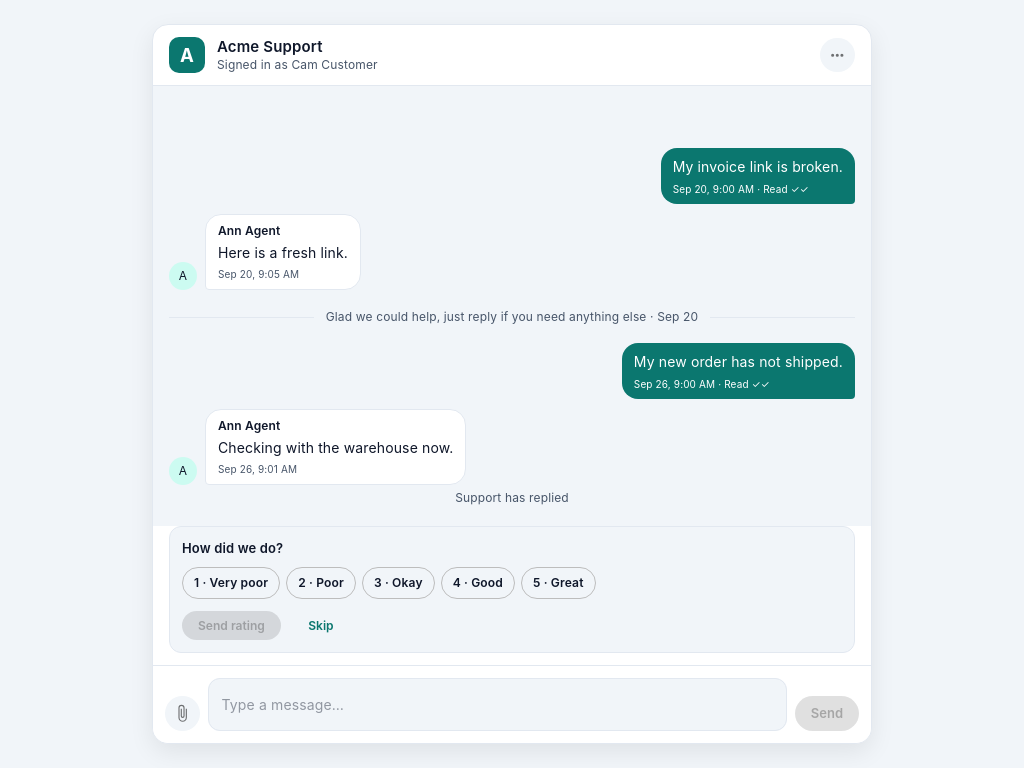
it: RatingPrompt in the customer chat › keeps the prompt and says what went wrong when saving fails
Click the radio button labelled "5 · Great".
click(558, 583)  # box [521,567,596,599]
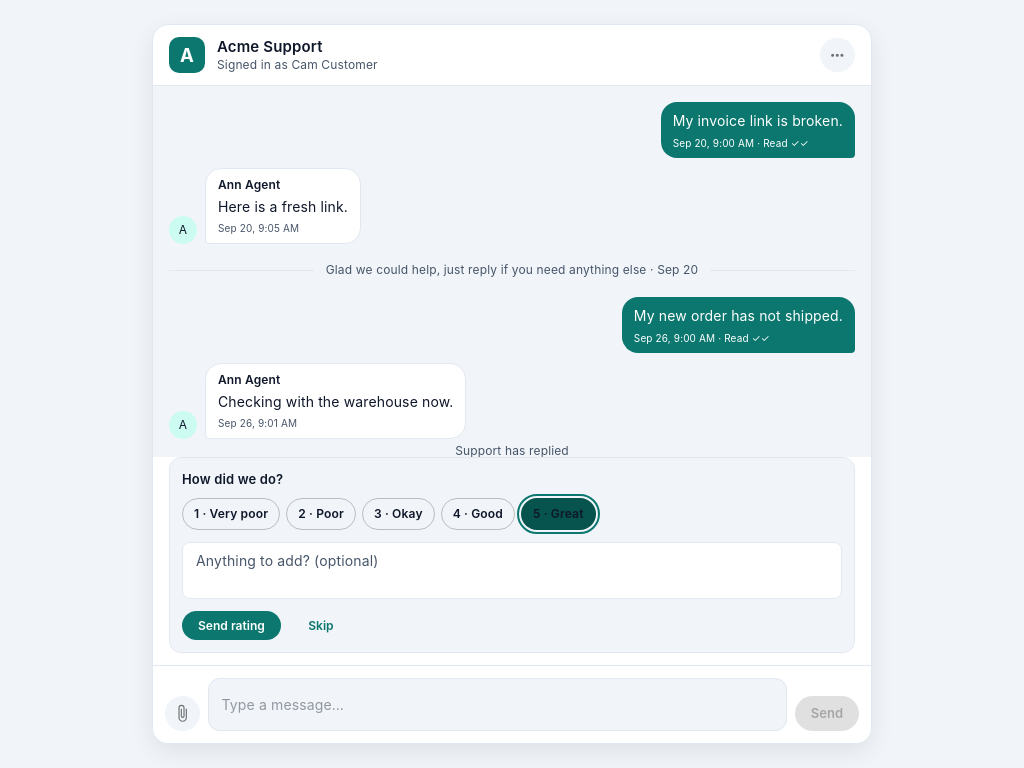
Click the button "Send rating".
click(231, 625)  # box [182,611,281,640]
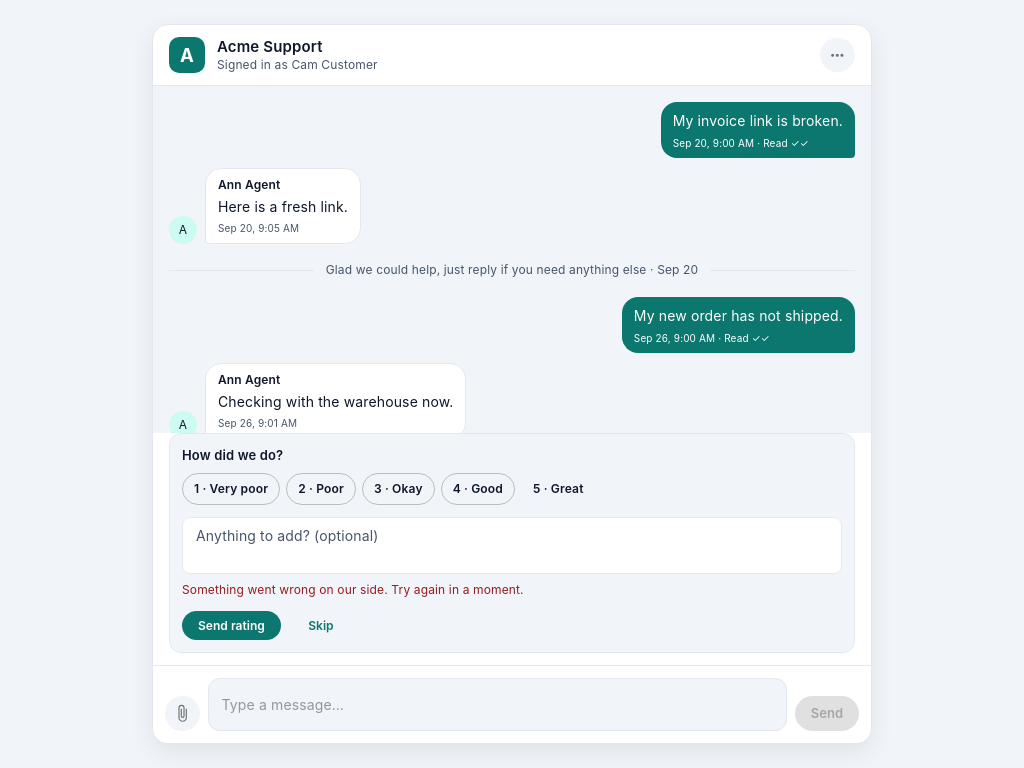
Check: the form "How did we do?" is shown, box [169,433,855,653]
Check: the message "Something went wrong on our side. Try again in a moment." is shown, box [182,582,524,597]
